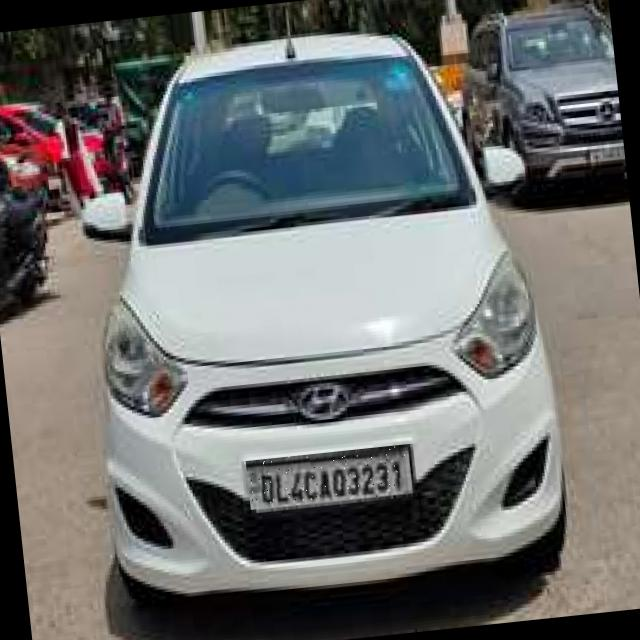Plate: (247, 445, 411, 510)
